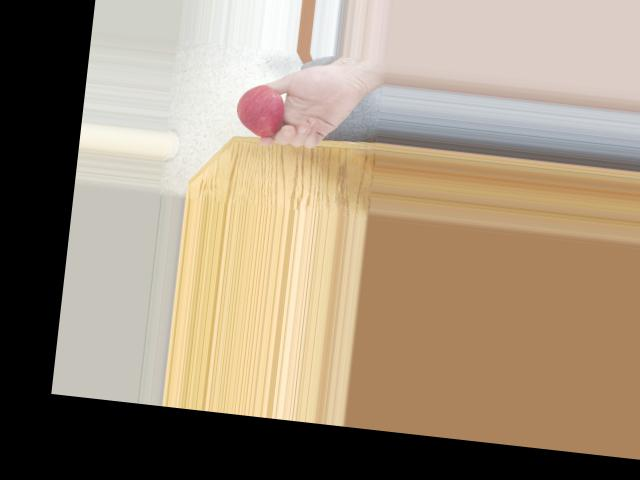apple: (232, 78, 293, 140)
